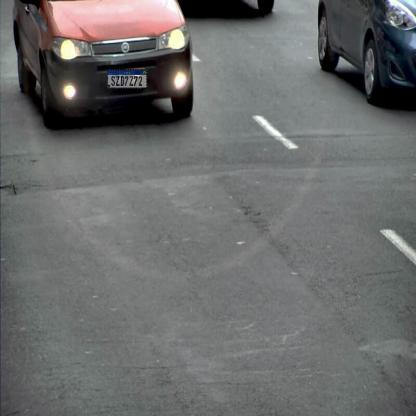PlacaM: (107, 69, 147, 89)
